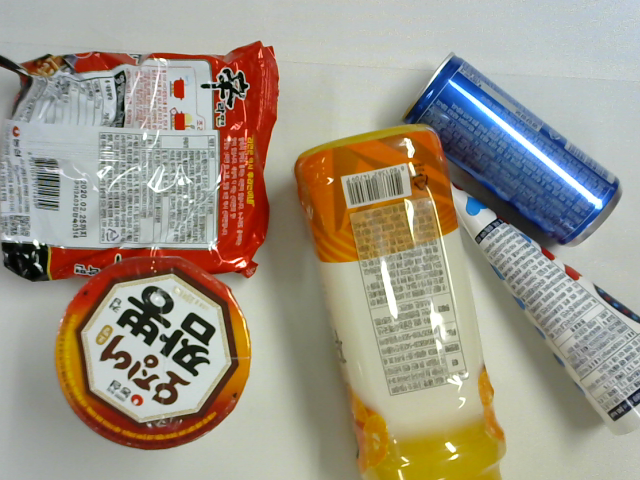Bravo_Cone_(Banila)_CVS: (444, 177, 640, 437)
Jeju_Tangerine_1.5L: (293, 125, 508, 480)
Ojjam: (55, 256, 252, 448)
Pepsi_Cola_Can_250ml: (402, 55, 623, 246)
Sinramen: (1, 39, 280, 286)
